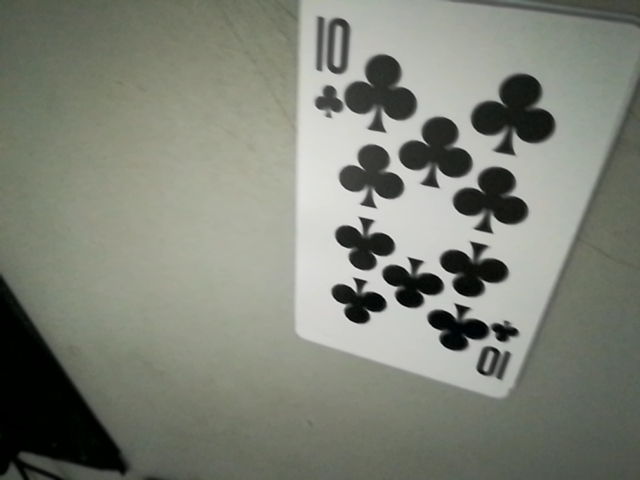mh 10: (298, 7, 349, 125), (477, 315, 527, 381)
